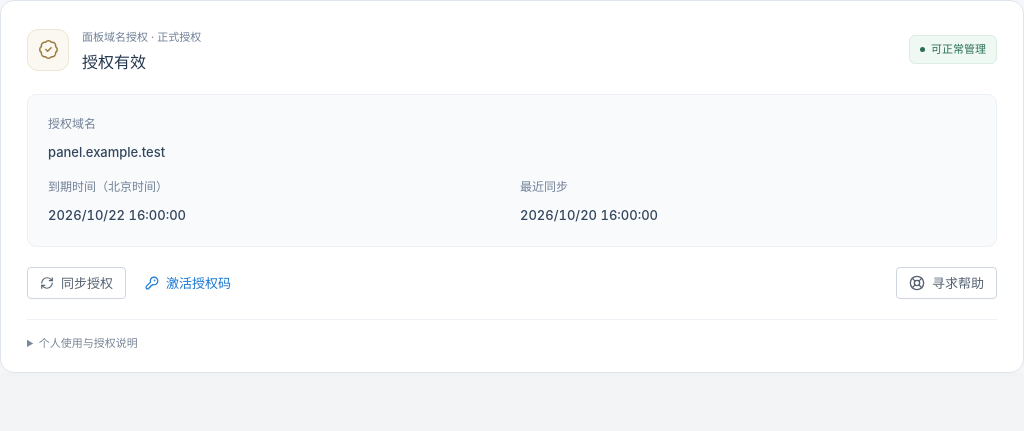
Test: Panel license UI › does not claim a throttled or failed sync succeeded
Click the button "同步授权".
click(76, 282)  # box [27,266,126,298]
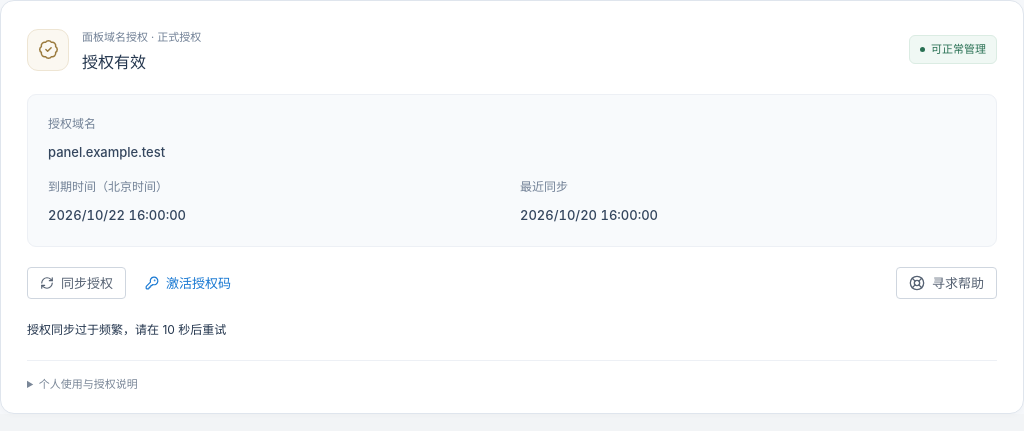
Expected: the text "10 秒后重试" is shown, [27,322,226,336]
